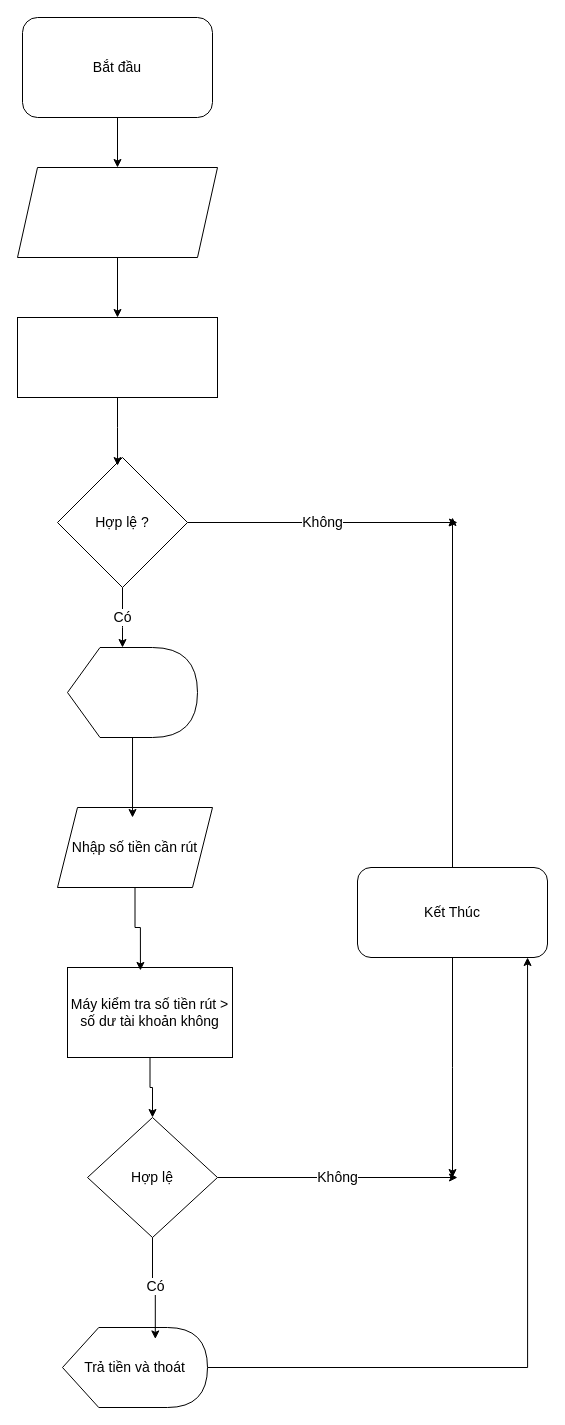
Some shapes in this 565 by 1425 pixel diagram are drawn without their labels. The centre of each missing label's shape, as x and y in pixels:
"Chọn dịch vụ rút tiền" belongs at pixel 132 692.
"Máy kiểm tra thẻ có hợp lệ không" belongs at pixel 117 357.
"Đưa thẻ vào máy" belongs at pixel 117 212.
